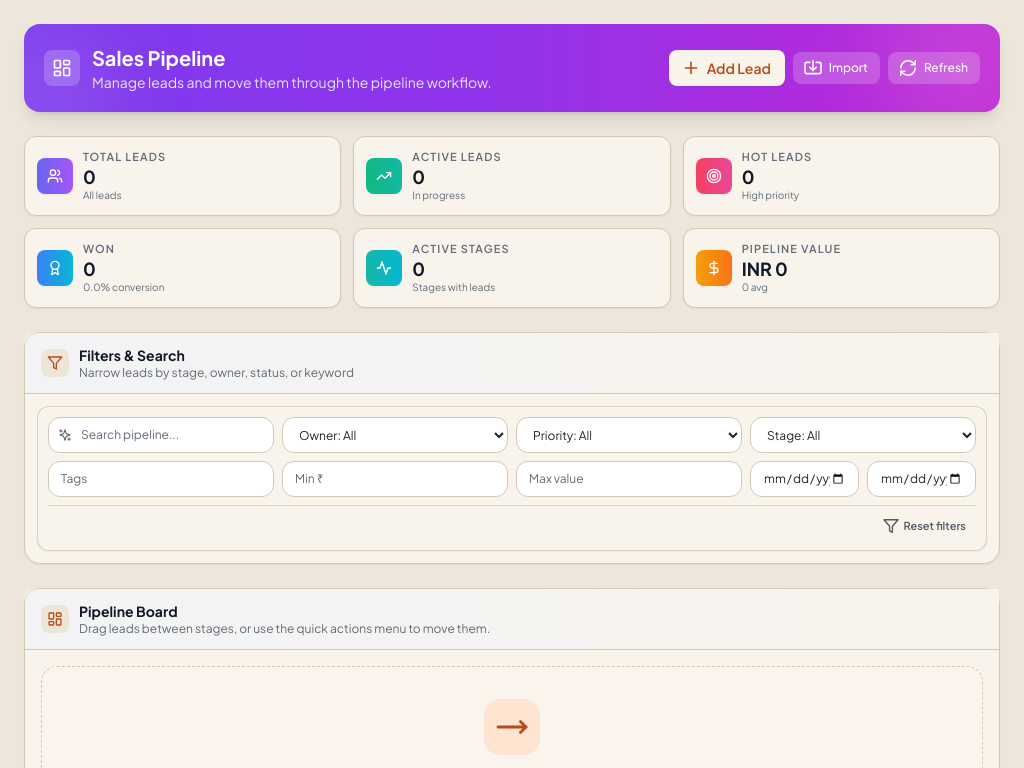
Test case: crm pipeline page › renders an Add Lead button that opens the existing create-lead modal
Click the button "Add Lead" at (727, 68), box [669,50,785,86]
(page scrolled)
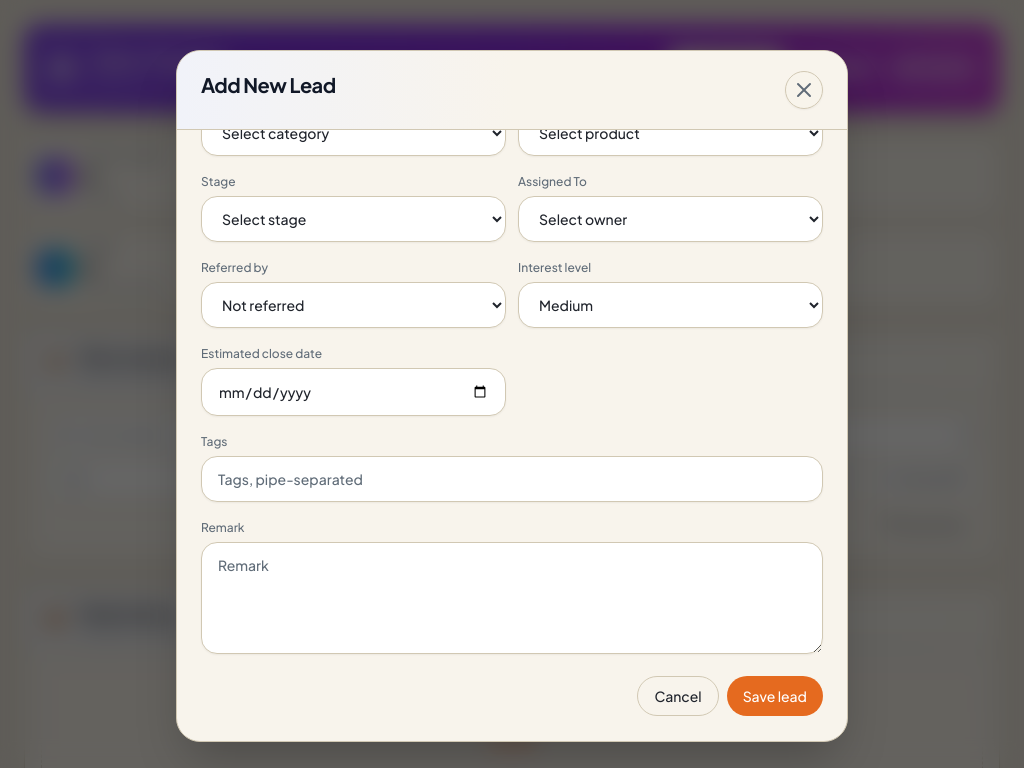
Check: the heading "Add New Lead" is shown, box [201,71,336,99]
Check: the button "Save lead" is shown, box [727,676,823,716]
// Closing via Cancel hides the modal again.
Click the button "Cancel" at (678, 696), box [637,676,719,716]
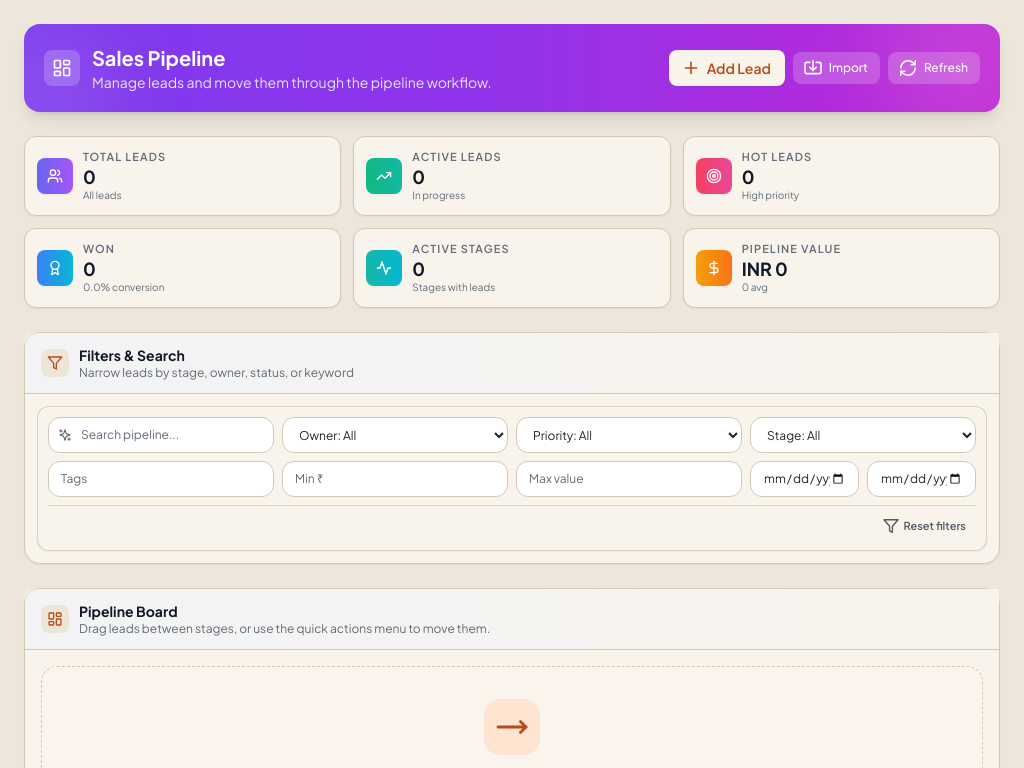
Check: the heading "Add New Lead" is gone
